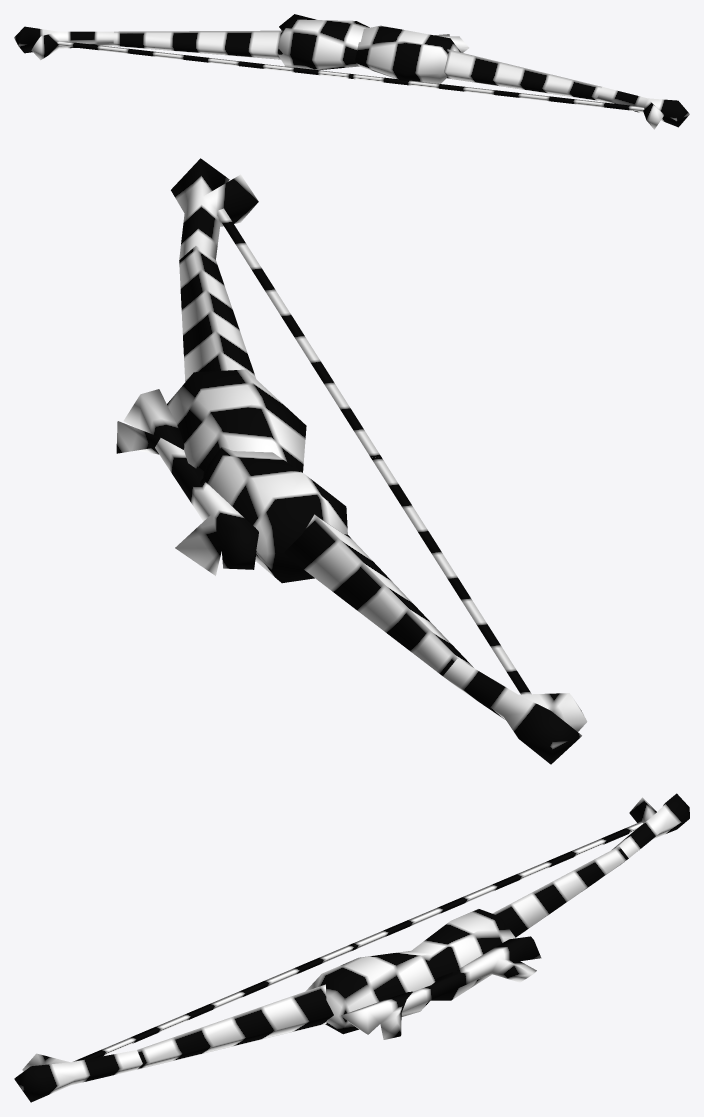
The model's file is initwebw2.dae.
The picture shows the model from 3 angles, top to bottom: view 1: azimuth 30°, elevation 25°; view 2: azimuth 150°, elevation 25°; view 3: azimuth 270°, elevation 25°; orthographic projection. The views are drawn at different scales.
Parts seen in each view (by area): view 1: weapon; view 2: weapon; view 3: weapon.
Part boxes in pixels (x1=…): weapon: x1=14, y1=14, x2=689, y2=129; weapon: x1=116, y1=158, x2=587, y2=764; weapon: x1=14, y1=793, x2=689, y2=1102.
Size of the model in its own units: 2.02 by 2.02 by 0.1833.
1 material, 1 textured.
